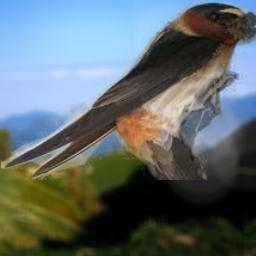Swallow: (1, 2, 256, 180)
